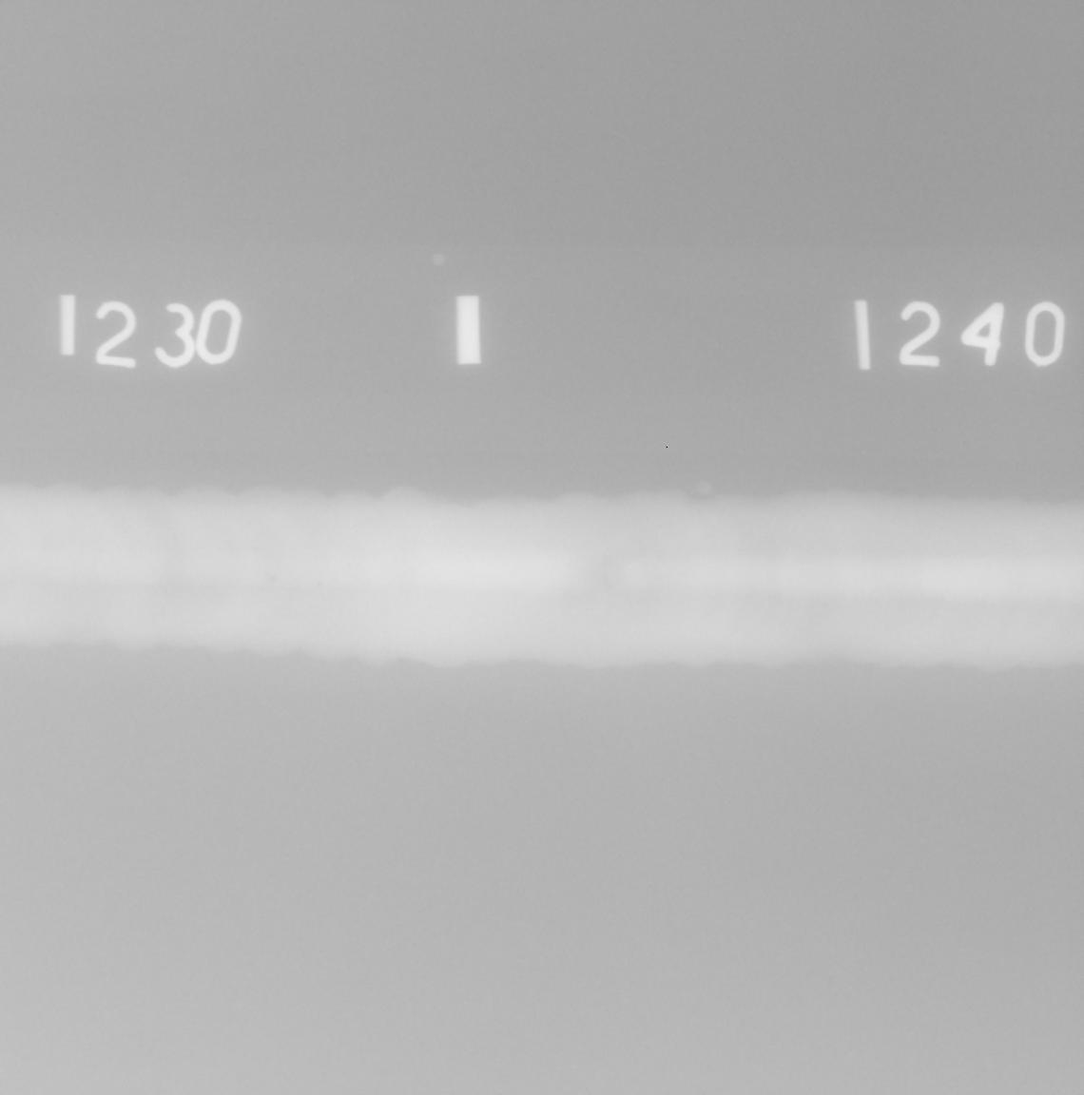Pore/Porosity: (269, 576, 277, 582), (204, 519, 209, 524), (254, 548, 260, 552), (318, 582, 322, 587), (657, 556, 662, 560), (1005, 542, 1009, 547), (929, 616, 933, 620), (264, 573, 268, 576), (989, 537, 992, 540), (994, 533, 997, 536), (261, 587, 264, 590)
